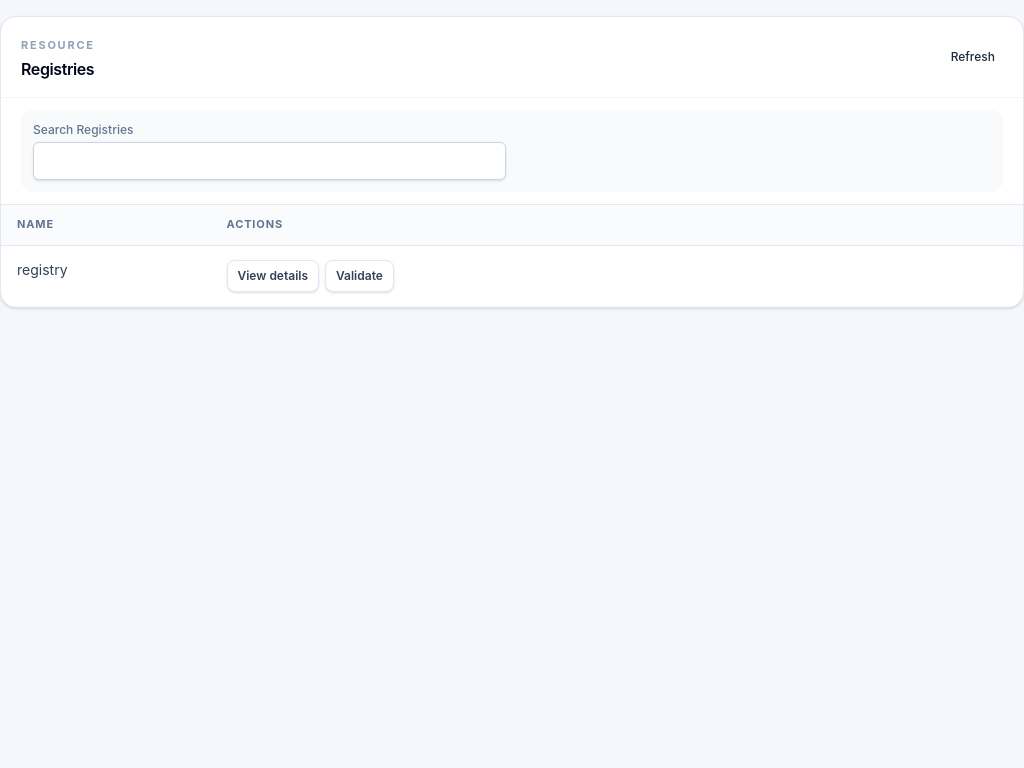
Test: resource list usability › announces a successful resource action
Click the button "Validate" at {"x": 359, "y": 276}, box [325,260,394,292]
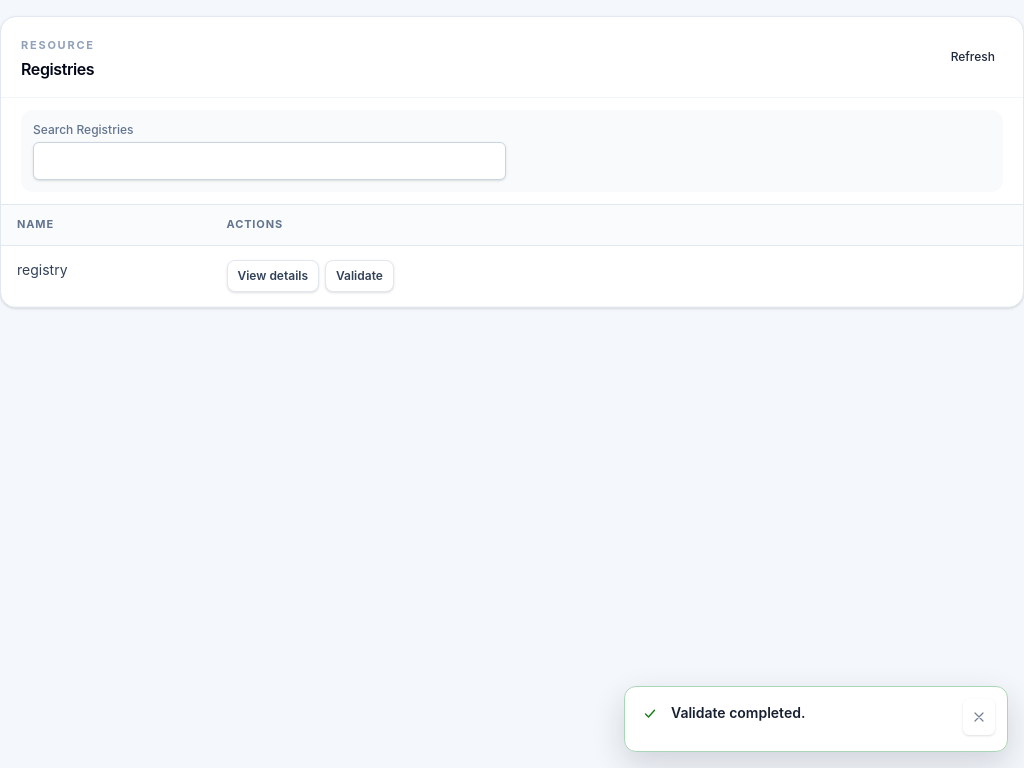
Expected: the message shows "Validate completed", [671,704,805,721]
